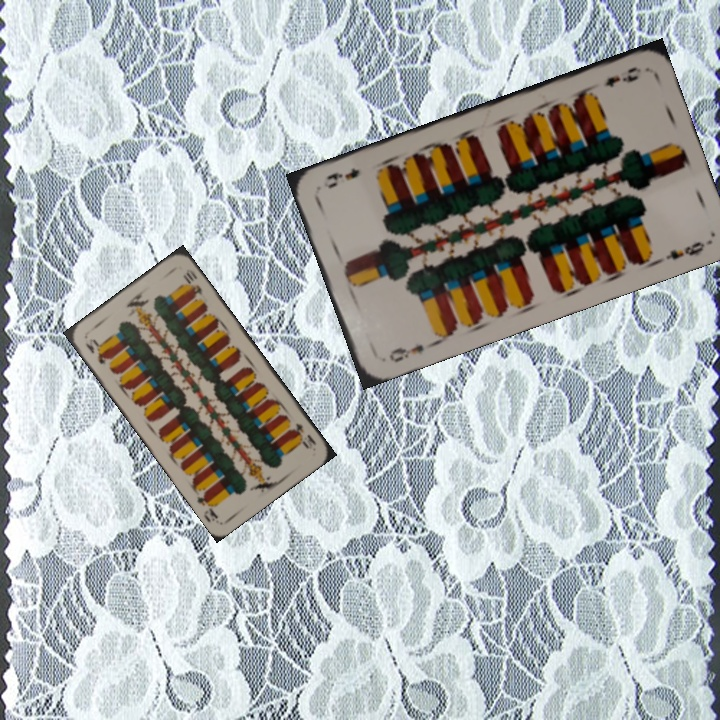E10: (288, 419, 319, 451), (81, 334, 110, 367)
E9: (385, 338, 437, 365), (601, 63, 644, 90)
